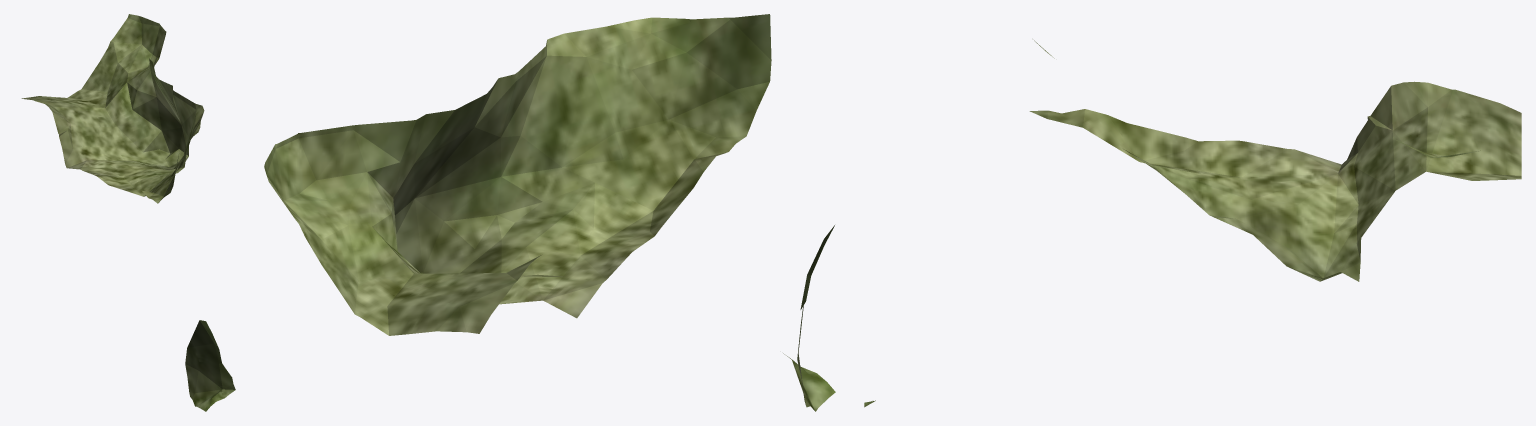
3 views of the same model, side by side, from view 1: azimuth 30°, elevation 25°; view 2: azimuth 150°, elevation 25°; view 3: azimuth 270°, elevation 25° (orthographic). The views are drawn at different scales.
Size of the model in its own units: 1.14 by 1.97 by 2.95.
1 material, 1 textured.
